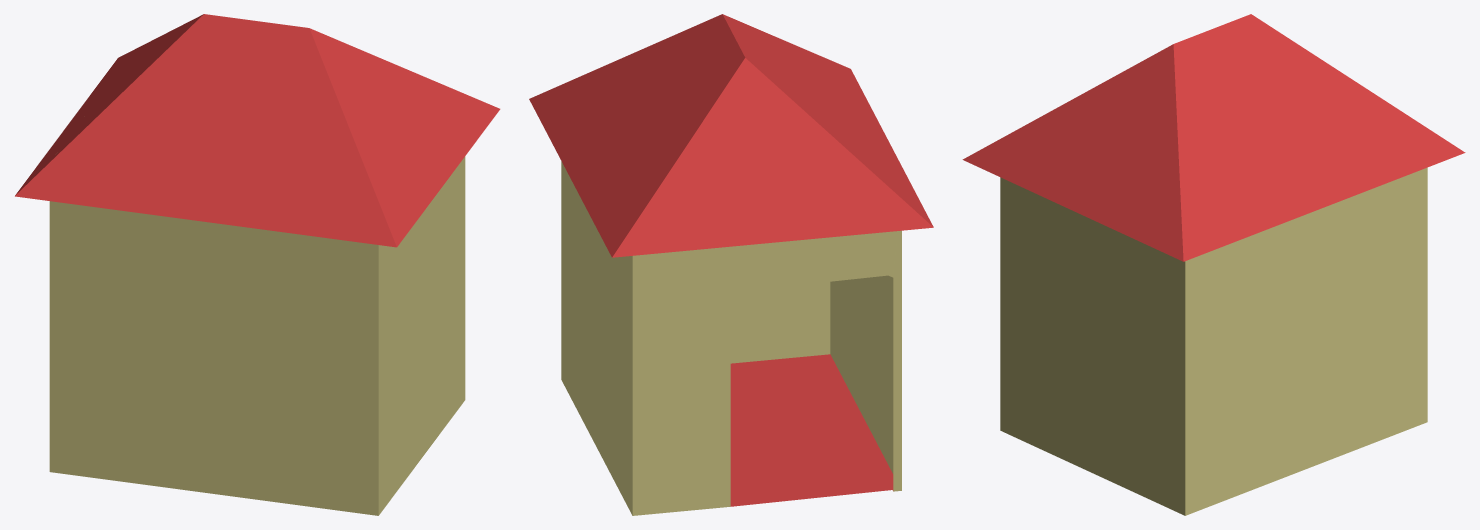
The picture shows the model from 3 angles, left to right: view 1: azimuth 30°, elevation 25°; view 2: azimuth 150°, elevation 25°; view 3: azimuth 270°, elevation 25°; orthographic projection. The views are drawn at different scales.
Visible parts, largest first — view 1: group_5, group_3, group_4; view 2: group_5, group_3, group_6, group_4; view 3: group_5, group_3, group_4.
Boxes of the visible parts, x1,y1,x2,y2 form: group_5: (49,156,465,515); group_3: (15,14,500,247); group_4: (15,96,471,246); group_5: (561,161,901,515); group_3: (534,14,933,257); group_6: (730,354,893,506); group_4: (529,58,933,257); group_5: (1000,167,1427,515); group_3: (963,14,1427,261); group_4: (962,126,1465,261).
Bounding box in the file's own units: 18.65 × 18.78 × 16.33.
